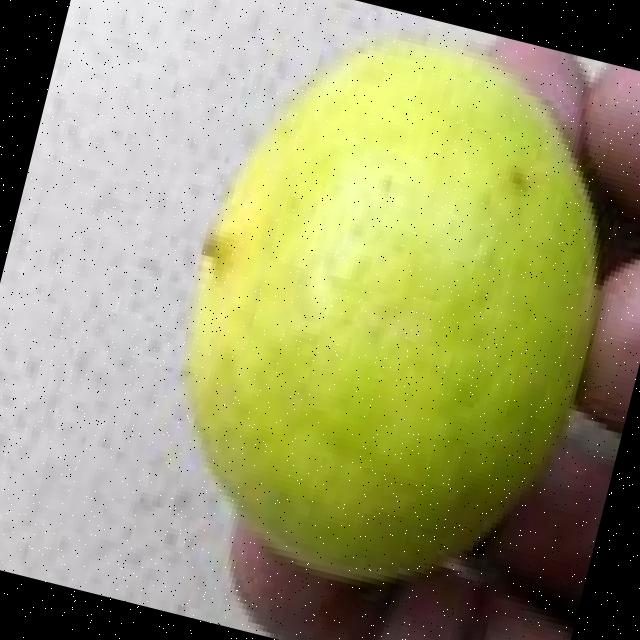Good_Lime-10-21-days: (185, 32, 605, 587)
